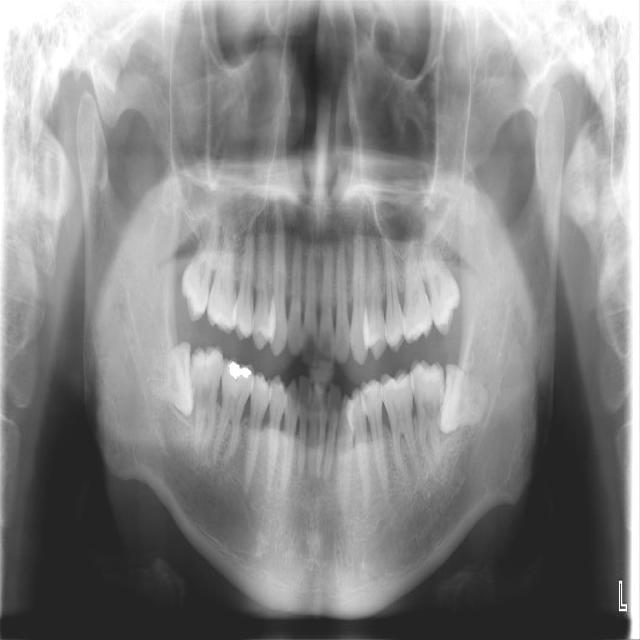Filling: (228, 362, 252, 380)
impacted tooth: (138, 342, 191, 415), (441, 366, 488, 430)
